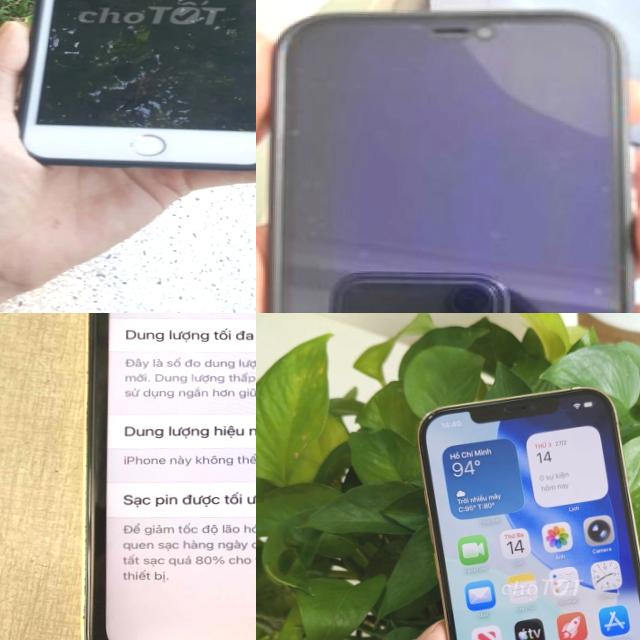gen_12_13: (256, 0, 640, 313), (412, 380, 640, 640)
gen_7_8: (18, 0, 256, 170)
gen_x_xs: (69, 313, 256, 640)
